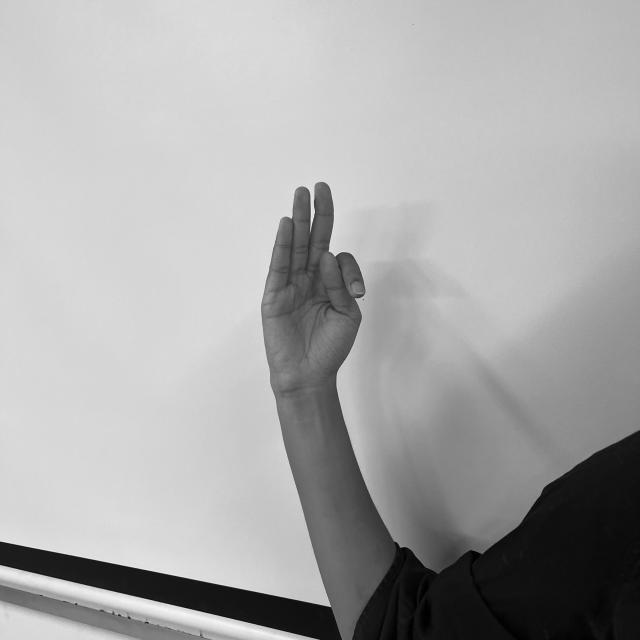Letra T: (258, 177, 368, 396)
